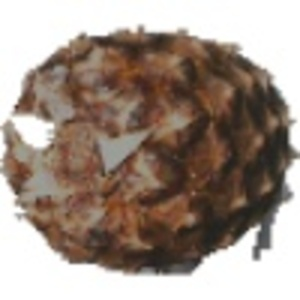abacaxi: (3, 23, 293, 265)
